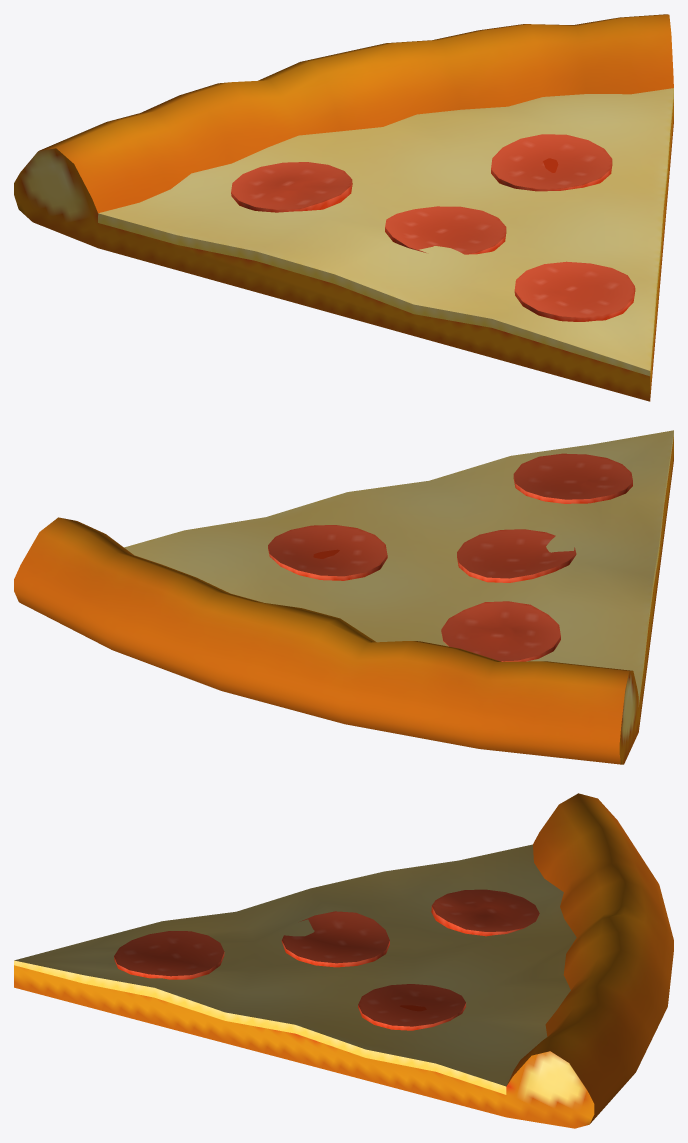
The model's file is Pizza.FBX.
3 views of the same model, one above another, from view 1: azimuth 30°, elevation 25°; view 2: azimuth 150°, elevation 25°; view 3: azimuth 270°, elevation 25° (orthographic). The views are drawn at different scales.
Visible parts, largest first — view 1: Pizza; view 2: Pizza; view 3: Pizza.
Part boxes in pixels (x1,y1,x2,y2): Pizza: [14, 14, 673, 401]; Pizza: [14, 430, 673, 764]; Pizza: [14, 793, 673, 1128].
Size of the model in its own units: 175 by 22.81 by 179.
